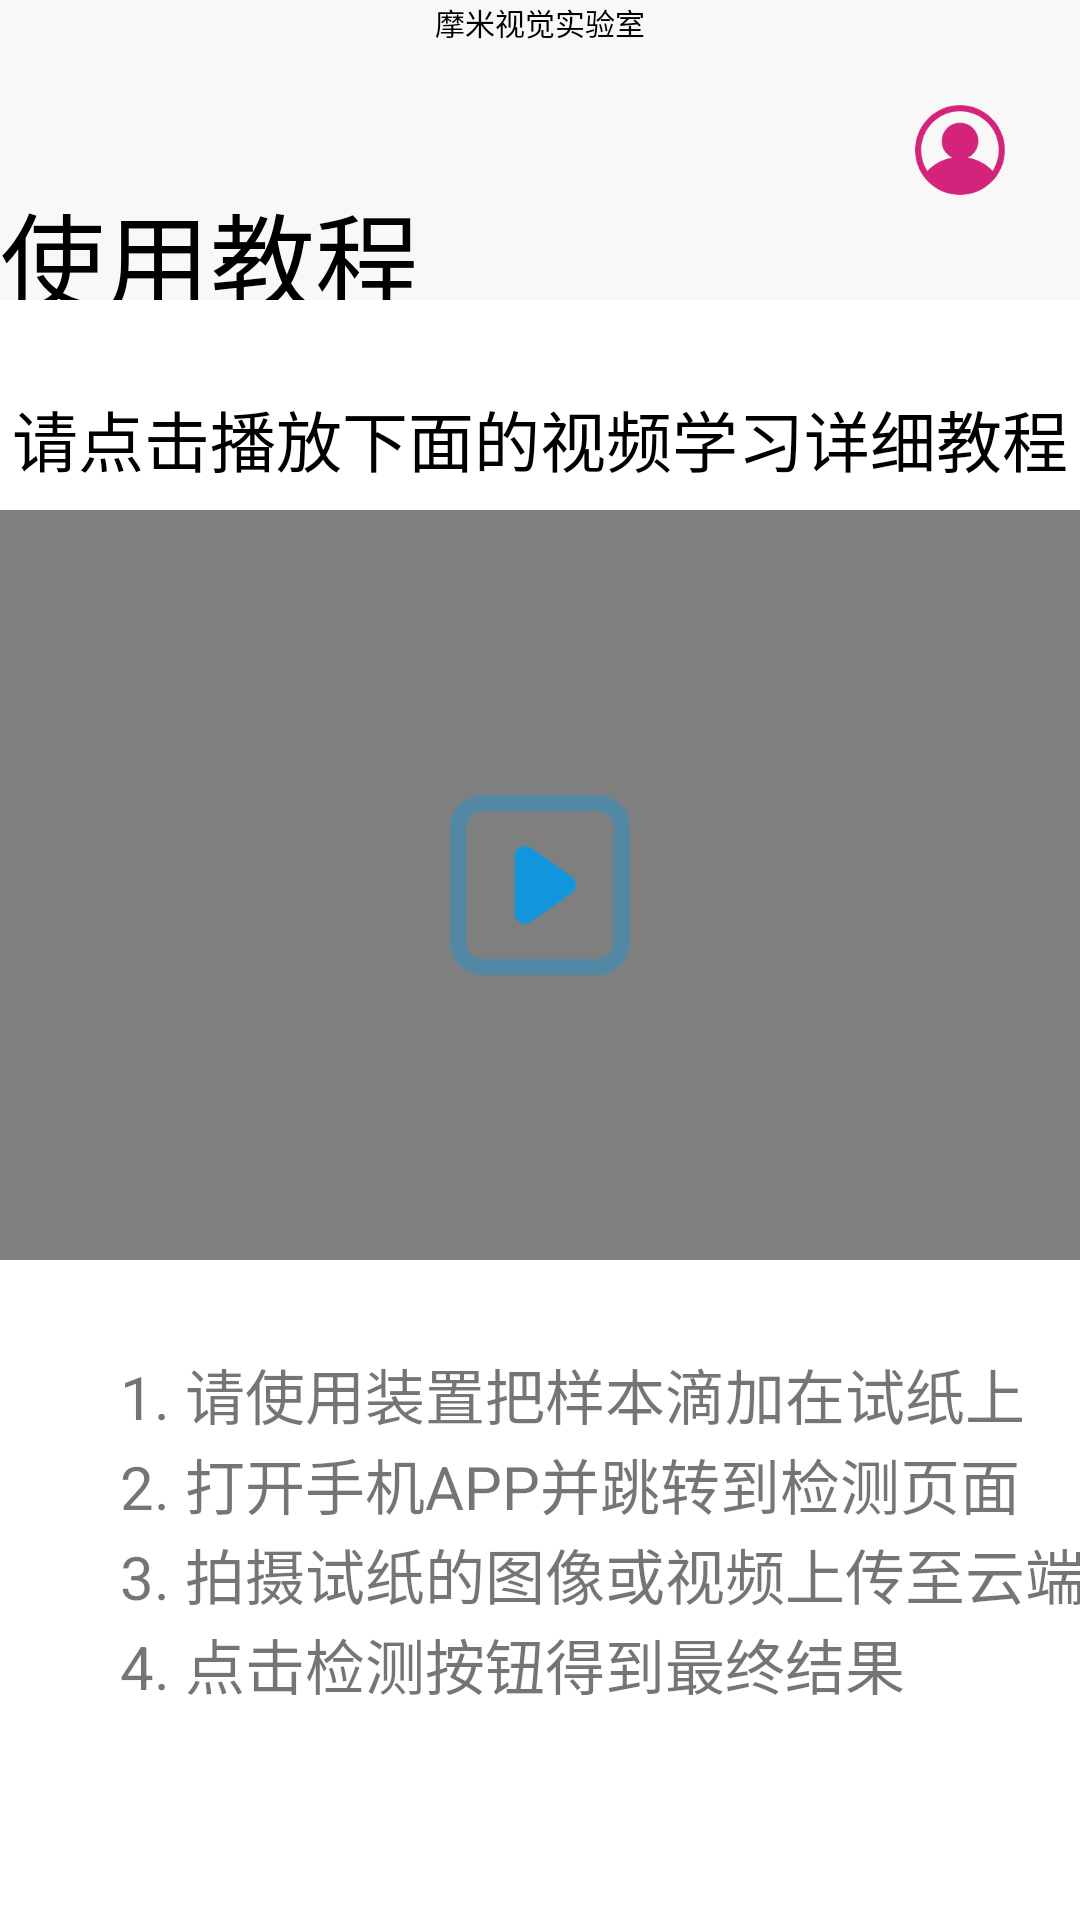

Icons on this 1080px x 1920px Android screen, each with the point to tap as point (x, y):
head: point (960, 150)
start: point (540, 885)
